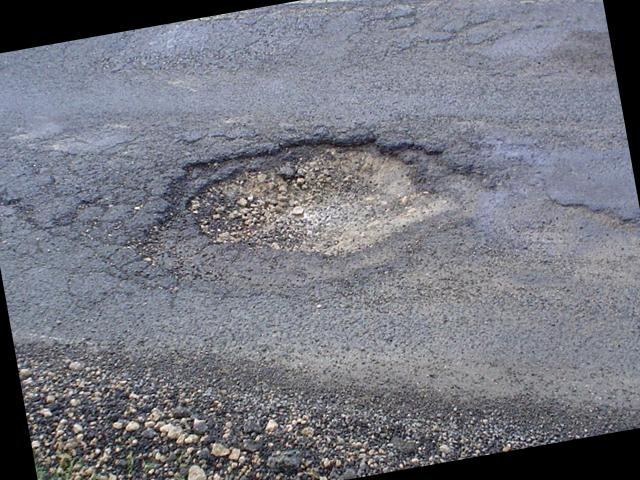pothole: (104, 85, 512, 329)
